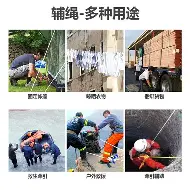safety belt: (133, 151, 151, 169)
